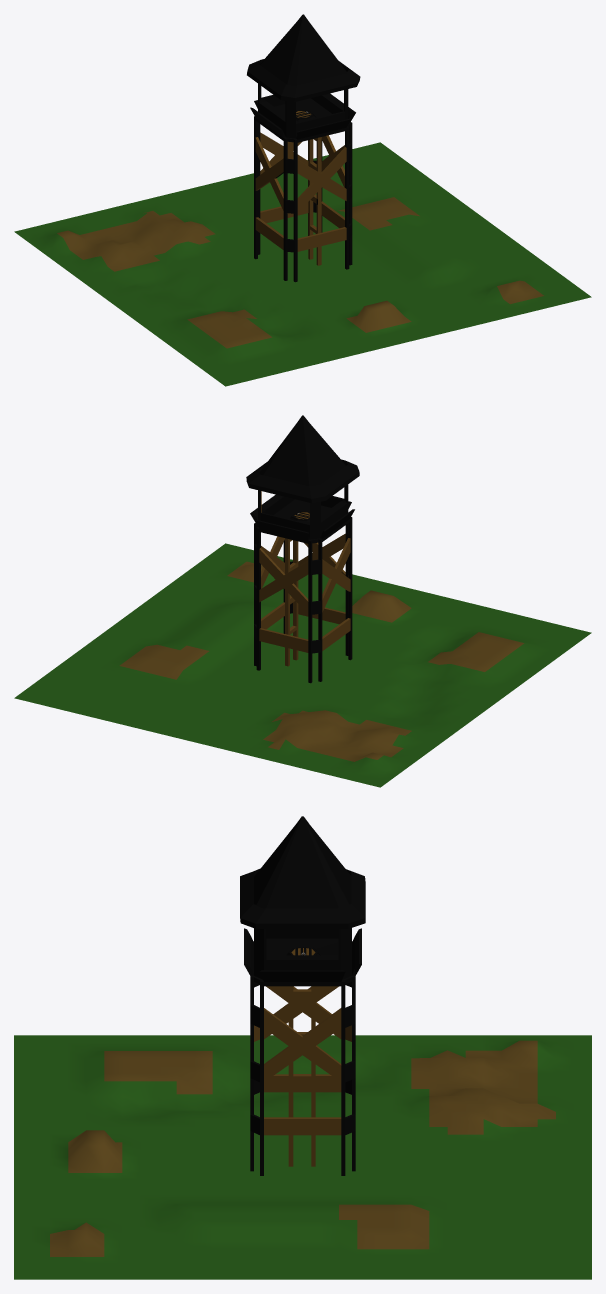
Rendered from Watch Tower.fbx.
3 views of the same model, one above another, from view 1: azimuth 30°, elevation 25°; view 2: azimuth 150°, elevation 25°; view 3: azimuth 270°, elevation 25° (orthographic). The views are drawn at different scales.
Parts seen in each view (by area): view 1: Watch Tower; view 2: Watch Tower; view 3: Watch Tower.
Part boxes in pixels (box(x1,y1,x2,y2)): Watch Tower: box(14, 14, 591, 386); Watch Tower: box(14, 415, 591, 787); Watch Tower: box(14, 816, 591, 1279).
Bounding box in the file's own units: 1000 × 661 × 1000.
